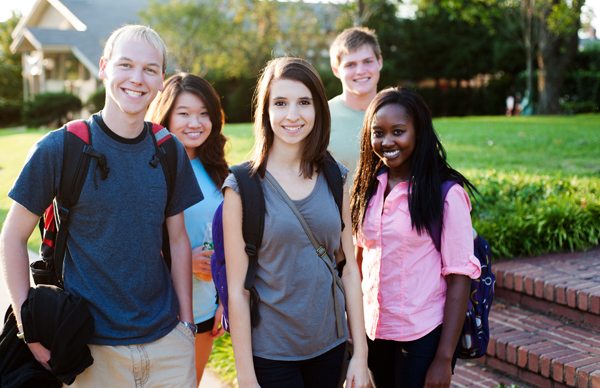Person: (26, 28, 188, 388), (359, 93, 470, 370), (244, 64, 335, 388)
